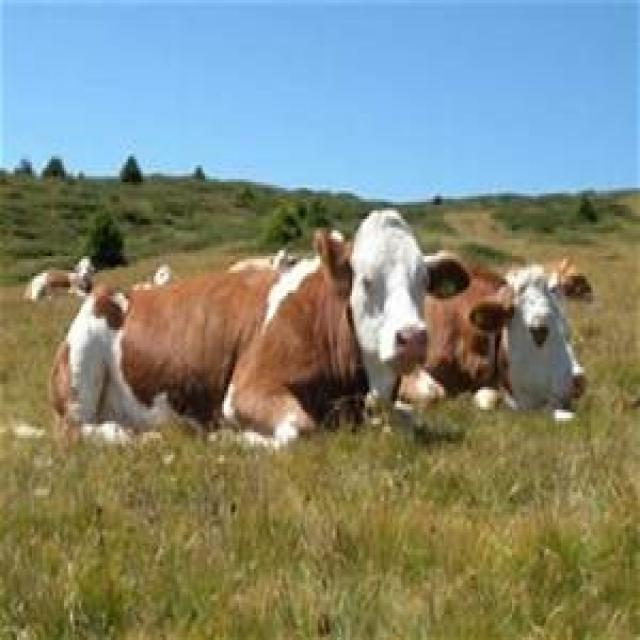cow: (47, 210, 429, 449), (397, 253, 585, 418)
